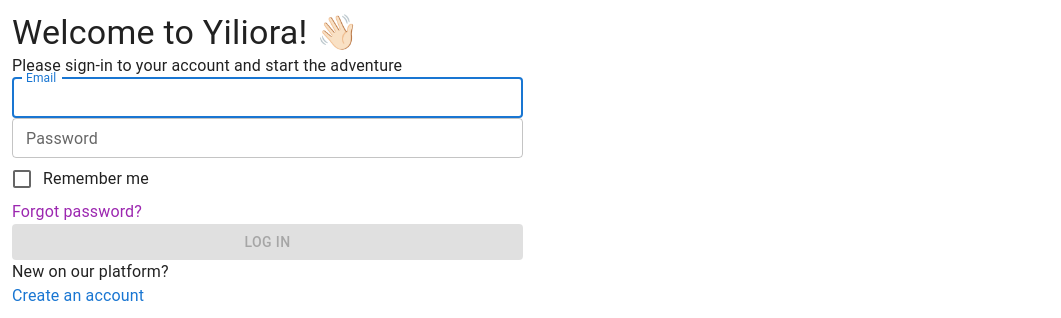
Test: Login — alternateChannel wiring › renders no switch when the challenge carries no alternateChannel
The image size is (1061, 318).
Type "landlord@example.com" into the field labelled "Email". click: point(268, 98)
box: [12, 78, 523, 118]
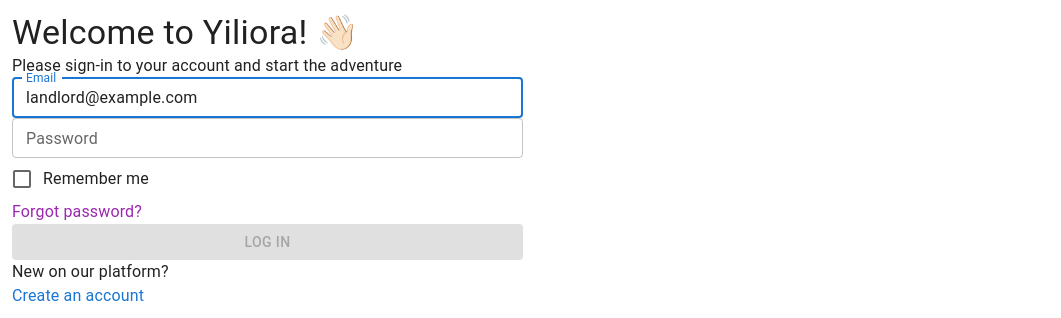
Type "correct-horse" into the password field labelled "Password". click: point(253, 138)
box: [12, 118, 494, 158]
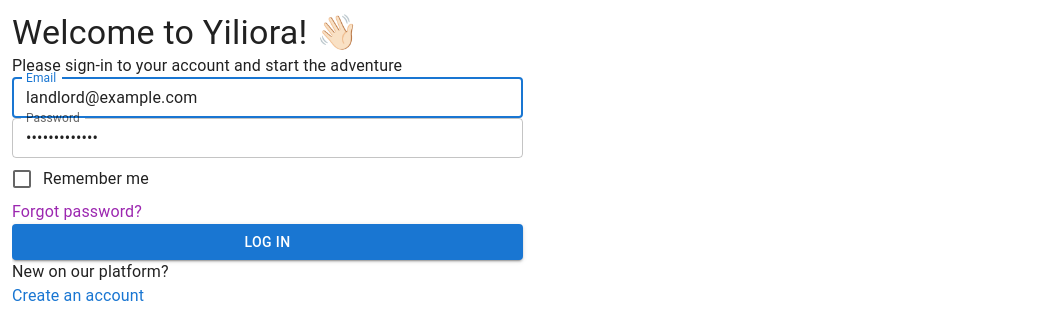
Click the button "Log In". click: point(268, 242)
box: [12, 224, 523, 260]
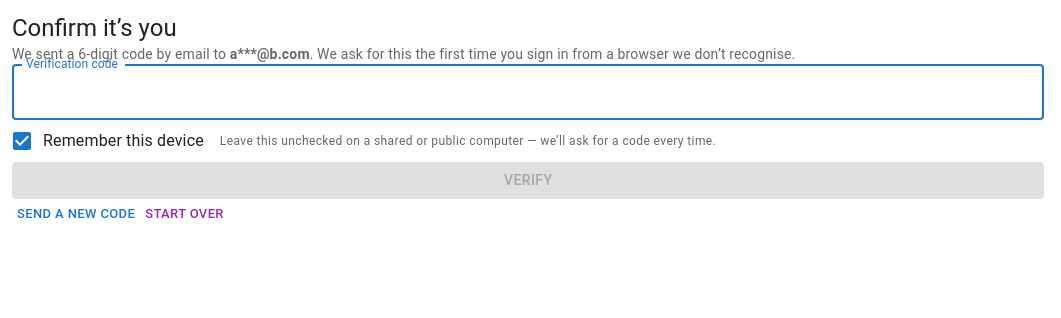
Result: the field labelled "Verification code" is shown at [12, 64, 1044, 120]
